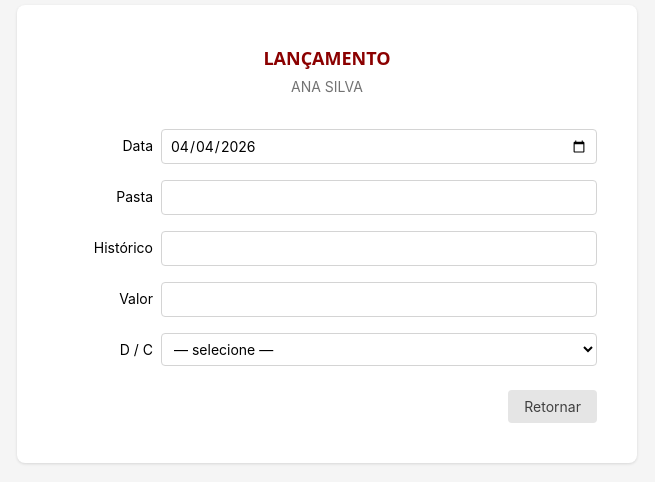
Test case: Lanca — visibilidade de botões (RN55) › revela Salvar e Desfazer ao preencher qualquer campo
Type "5" into the number field labelled "Pasta".
click(379, 198); type("5")  # box [161, 180, 597, 215]
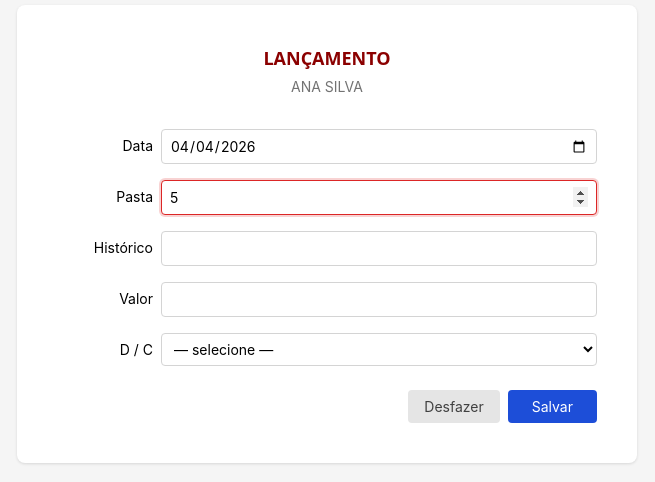
expect the button "Salvar" is shown: met, box [508, 390, 597, 423]
expect the button "Desfazer" is shown: met, box [408, 390, 500, 423]
expect the button "Retornar" is gone: met
